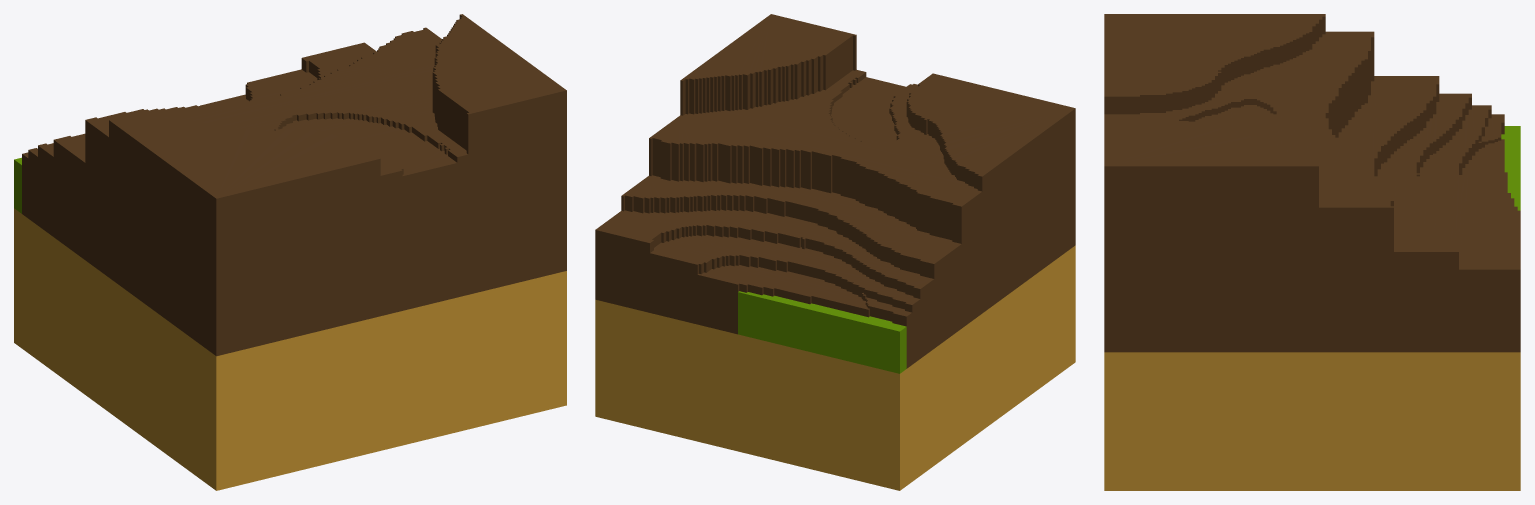
The picture shows the model from 3 angles, left to right: view 1: azimuth 30°, elevation 25°; view 2: azimuth 150°, elevation 25°; view 3: azimuth 270°, elevation 25°; orthographic projection. The views are drawn at different scales.
Parts seen in each view (by area): view 1: 15P; view 2: 15P; view 3: 15P.
Boxes of the visible parts, x1,y1,x2,y2 form: 15P: (14, 14, 566, 490); 15P: (595, 14, 1075, 490); 15P: (1104, 14, 1520, 490).
Bounding box in the file's own units: 12.8 × 11 × 12.8.
1 material, 1 textured.
